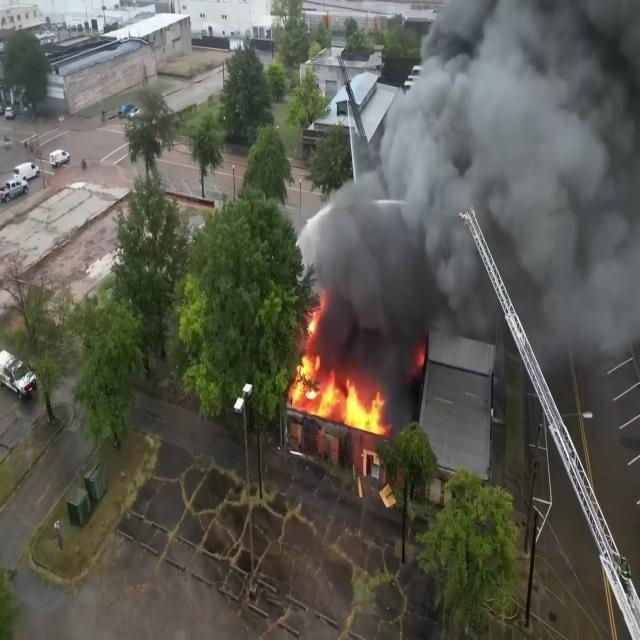Fire: (288, 332, 388, 440)
Smoke: (309, 0, 640, 366)
